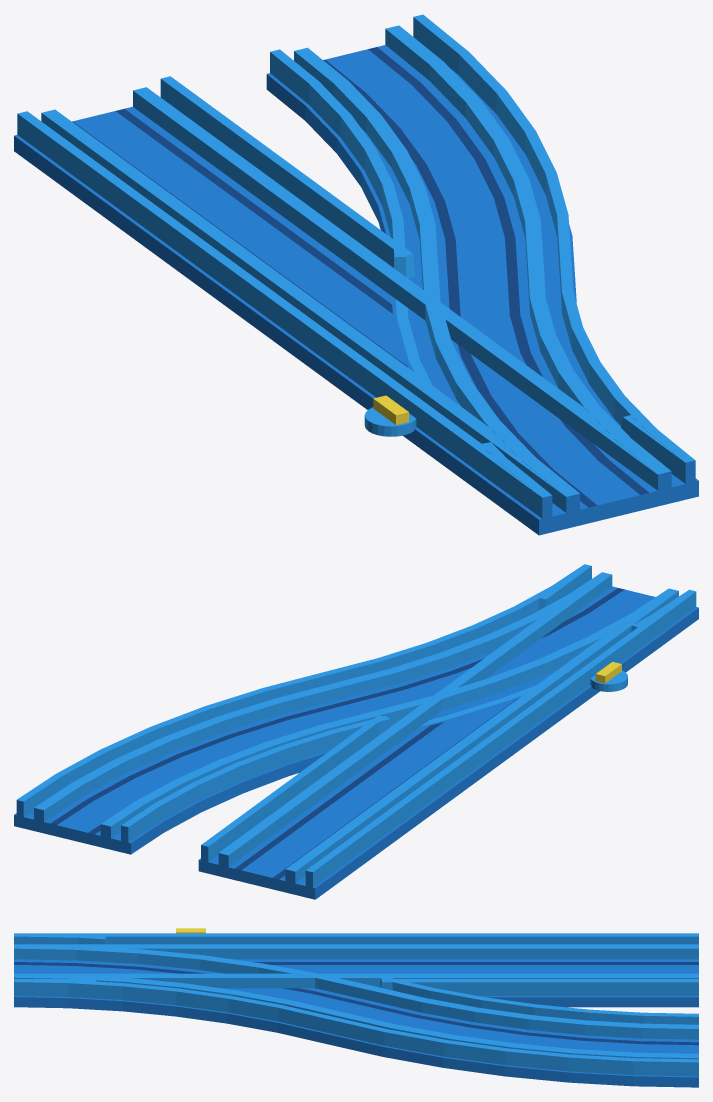
The model's file is Track_DoublePoint_Right.fbx.
The picture shows the model from 3 angles, top to bottom: view 1: azimuth 30°, elevation 25°; view 2: azimuth 150°, elevation 25°; view 3: azimuth 270°, elevation 25°; orthographic projection. The views are drawn at different scales.
Visible parts, largest first — view 1: Molded rail branch, Molded rail through, Lever base; view 2: Molded rail branch, Molded rail through; view 3: Molded rail branch, Molded rail through.
Part boxes in pixels (x1,y1,x2,y2): Molded rail branch: [266, 14, 698, 519]; Molded rail through: [14, 76, 698, 535]; Lever base: [364, 407, 416, 436]; Molded rail branch: [14, 564, 698, 854]; Molded rail through: [198, 566, 698, 899]; Molded rail branch: [14, 933, 698, 1087]; Molded rail through: [20, 933, 698, 1007].
Bounding box in the file's own units: 295 × 23.31 × 600.
